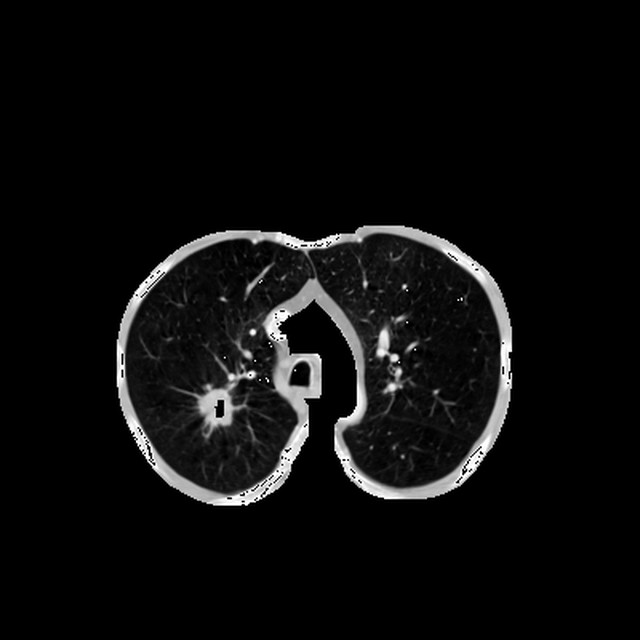PN: (197, 387, 235, 426)
